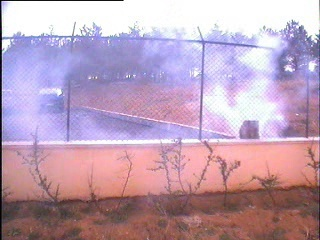smoke: (156, 27, 292, 138)
